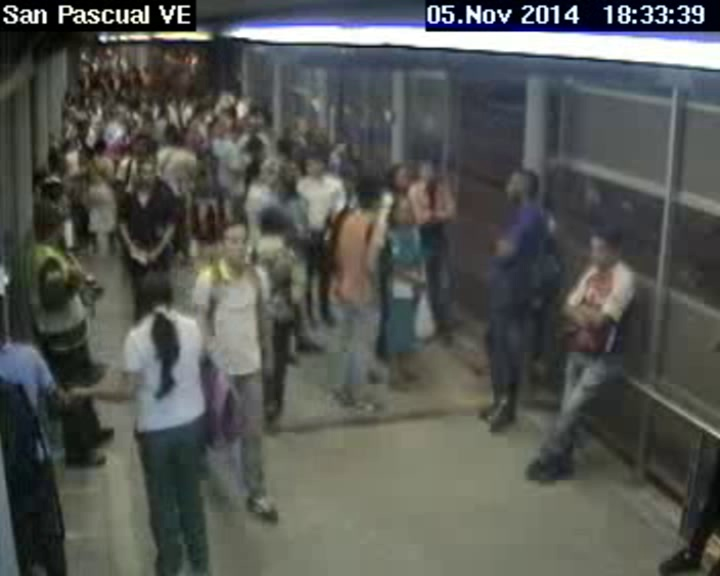person: (498, 165, 548, 213), (127, 265, 171, 312), (22, 211, 71, 251), (216, 216, 250, 266), (353, 177, 392, 217), (586, 227, 624, 267), (259, 207, 292, 247), (381, 157, 418, 191), (271, 164, 296, 199), (239, 161, 269, 190), (415, 158, 444, 186), (242, 131, 266, 160), (389, 198, 416, 222), (134, 157, 157, 185), (39, 182, 67, 203), (303, 153, 328, 175), (132, 131, 149, 158), (161, 125, 180, 145), (211, 113, 226, 137), (92, 137, 108, 156), (76, 119, 90, 140), (195, 103, 208, 124), (60, 135, 75, 153)
